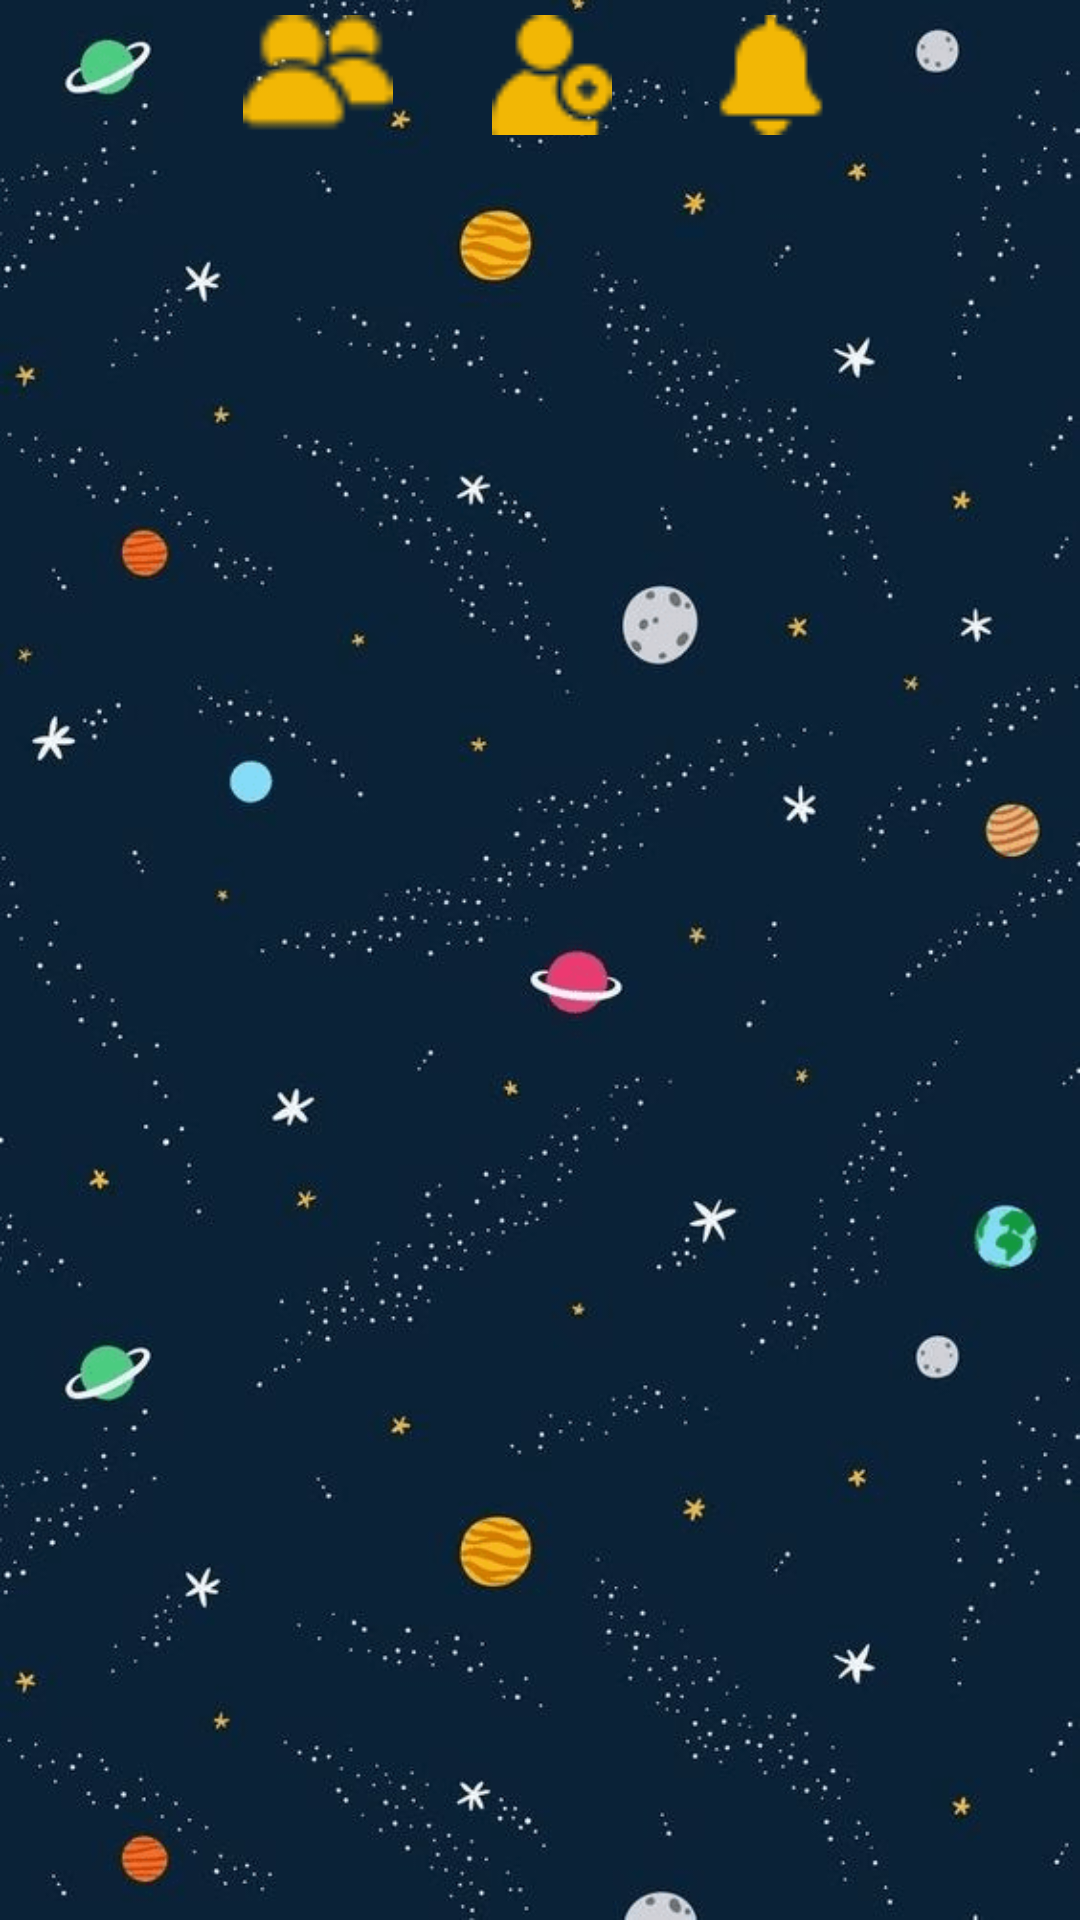

Screen size 1080x1920. Icon name, then its center in pixels as (x=x, y=y):
campanita: (x=771, y=75)
friend: (x=552, y=75)
friends: (x=318, y=72)
